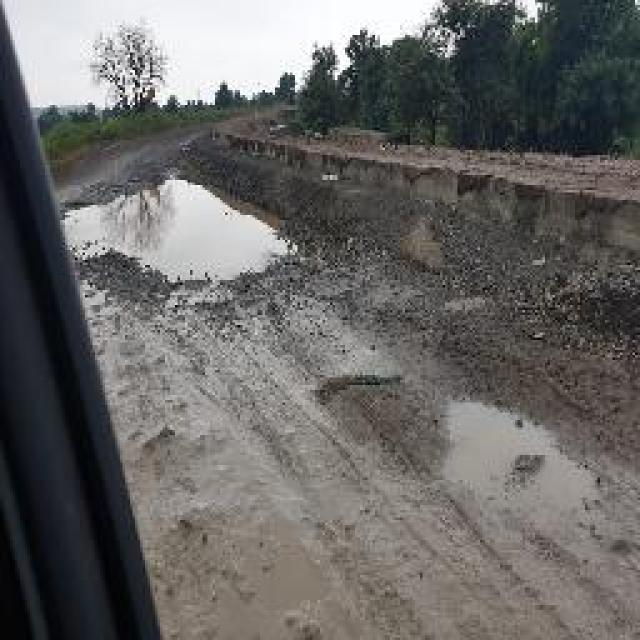stagnation: (97, 160, 318, 299)
